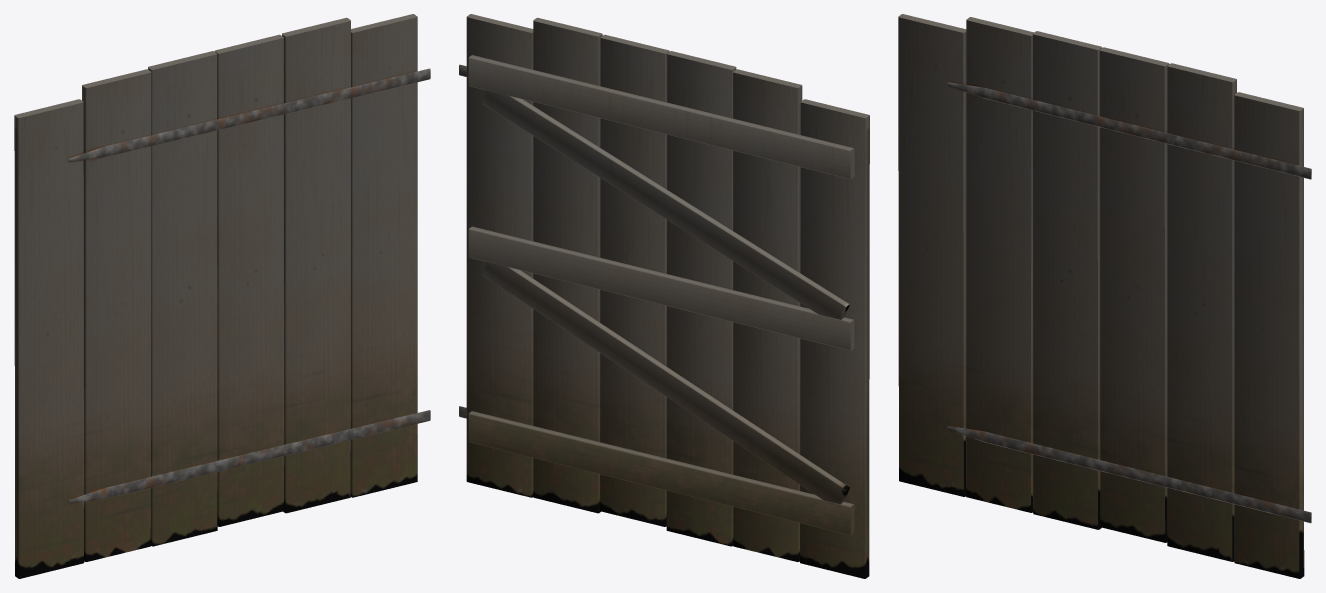
Rendered from SM_SiegeGate_LeafR.fbx.
3 renders of one model, left to right at view 1: azimuth 30°, elevation 25°; view 2: azimuth 150°, elevation 25°; view 3: azimuth 330°, elevation 25°, orthographic.
Parts seen in each view (by area): view 1: SM_SiegeGate_LeafR; view 2: SM_SiegeGate_LeafR; view 3: SM_SiegeGate_LeafR.
Part boxes in pixels (x1,y1,x2,y2): SM_SiegeGate_LeafR: (14,14,430,578); SM_SiegeGate_LeafR: (459,14,869,578); SM_SiegeGate_LeafR: (898,14,1311,578).
Size of the model in its own units: 296 by 13.23 by 328.
